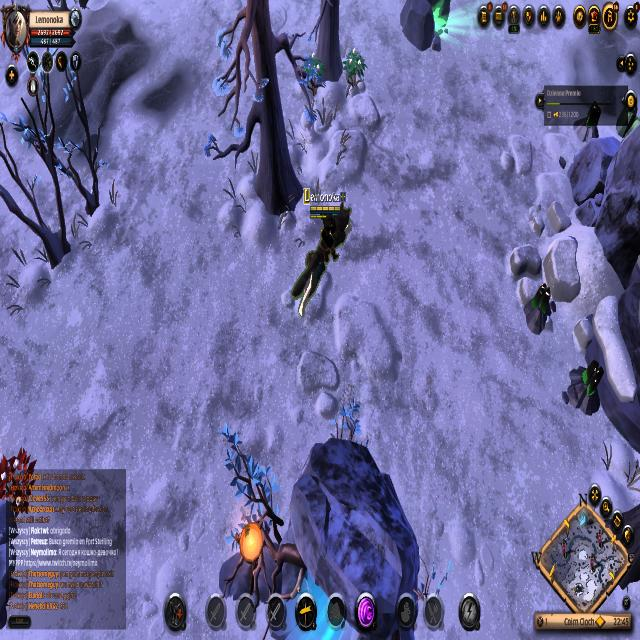fiber tier 3: (344, 48, 369, 92)
fiber tier 5: (1, 444, 45, 526)
ore tier 3: (566, 352, 606, 424), (524, 280, 556, 339), (578, 95, 604, 151)
